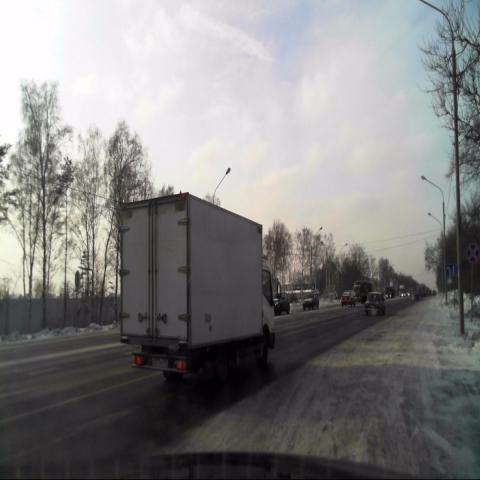3_27: (466, 242, 479, 266)
5_15_1: (446, 263, 460, 278)
